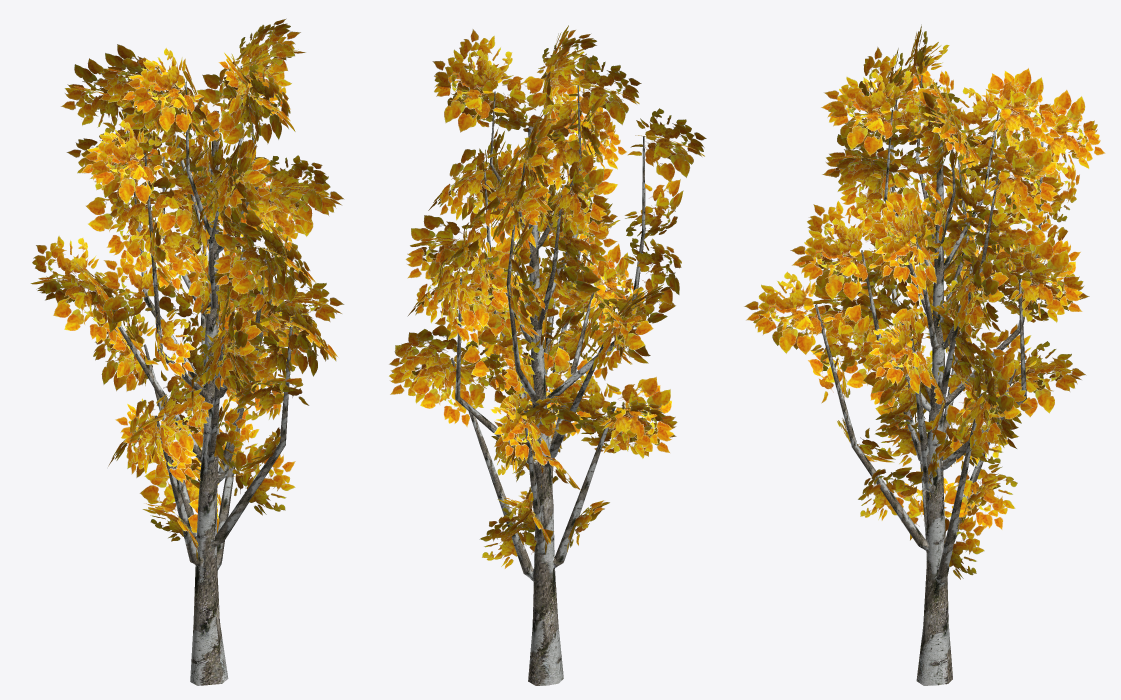
The picture shows the model from 3 angles, left to right: view 1: azimuth 30°, elevation 25°; view 2: azimuth 150°, elevation 25°; view 3: azimuth 270°, elevation 25°; orthographic projection. The views are drawn at different scales.
Visible parts, largest first — view 1: L_P_Populier_Fall_02_2, Bark_Populier_Fall_02_0; view 2: L_P_Populier_Fall_02_2, Bark_Populier_Fall_02_0; view 3: L_P_Populier_Fall_02_2, Bark_Populier_Fall_02_0.
Part boxes in pixels (x1=…): L_P_Populier_Fall_02_2: x1=30, y1=18, x2=344, y2=561; Bark_Populier_Fall_02_0: x1=91, y1=66, x2=292, y2=685; L_P_Populier_Fall_02_2: x1=389, y1=25, x2=706, y2=568; Bark_Populier_Fall_02_0: x1=451, y1=75, x2=645, y2=685; L_P_Populier_Fall_02_2: x1=744, y1=24, x2=1105, y2=579; Bark_Populier_Fall_02_0: x1=815, y1=75, x2=1043, y2=685.
Size of the model in its own units: 5.56 by 12.45 by 6.53.
3 materials, 3 textured.
